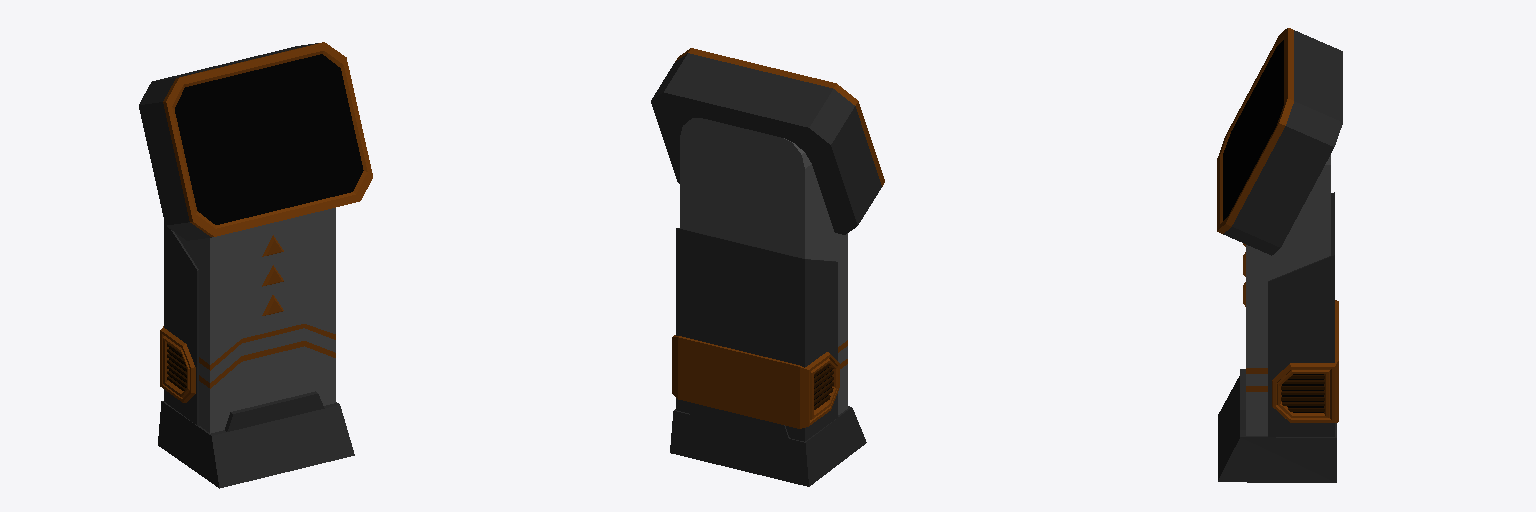
The model's file is Props_ComputerSmall.obj.
3 views of the same model, side by side, from view 1: azimuth 30°, elevation 25°; view 2: azimuth 150°, elevation 25°; view 3: azimuth 270°, elevation 25° (orthographic).
Parts seen in each view (by area): view 1: Props_ComputerSmall_Cube.032; view 2: Props_ComputerSmall_Cube.032; view 3: Props_ComputerSmall_Cube.032.
Part boxes in pixels (x1,y1,x2,y2): Props_ComputerSmall_Cube.032: (139,42,372,488); Props_ComputerSmall_Cube.032: (651,48,884,486); Props_ComputerSmall_Cube.032: (1217,28,1342,482).
Bounding box in the file's own units: 0.7512 × 1.54 × 0.4564.